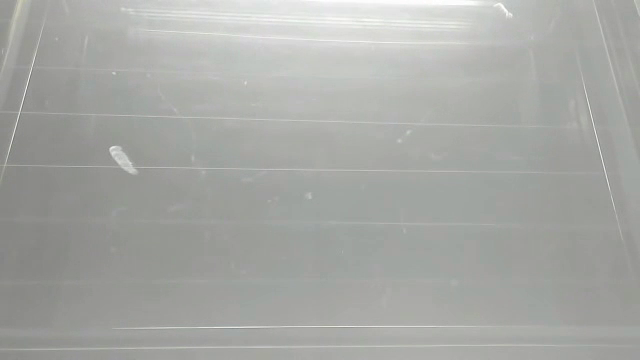alpha: (107, 143, 140, 177), (490, 1, 514, 21)
